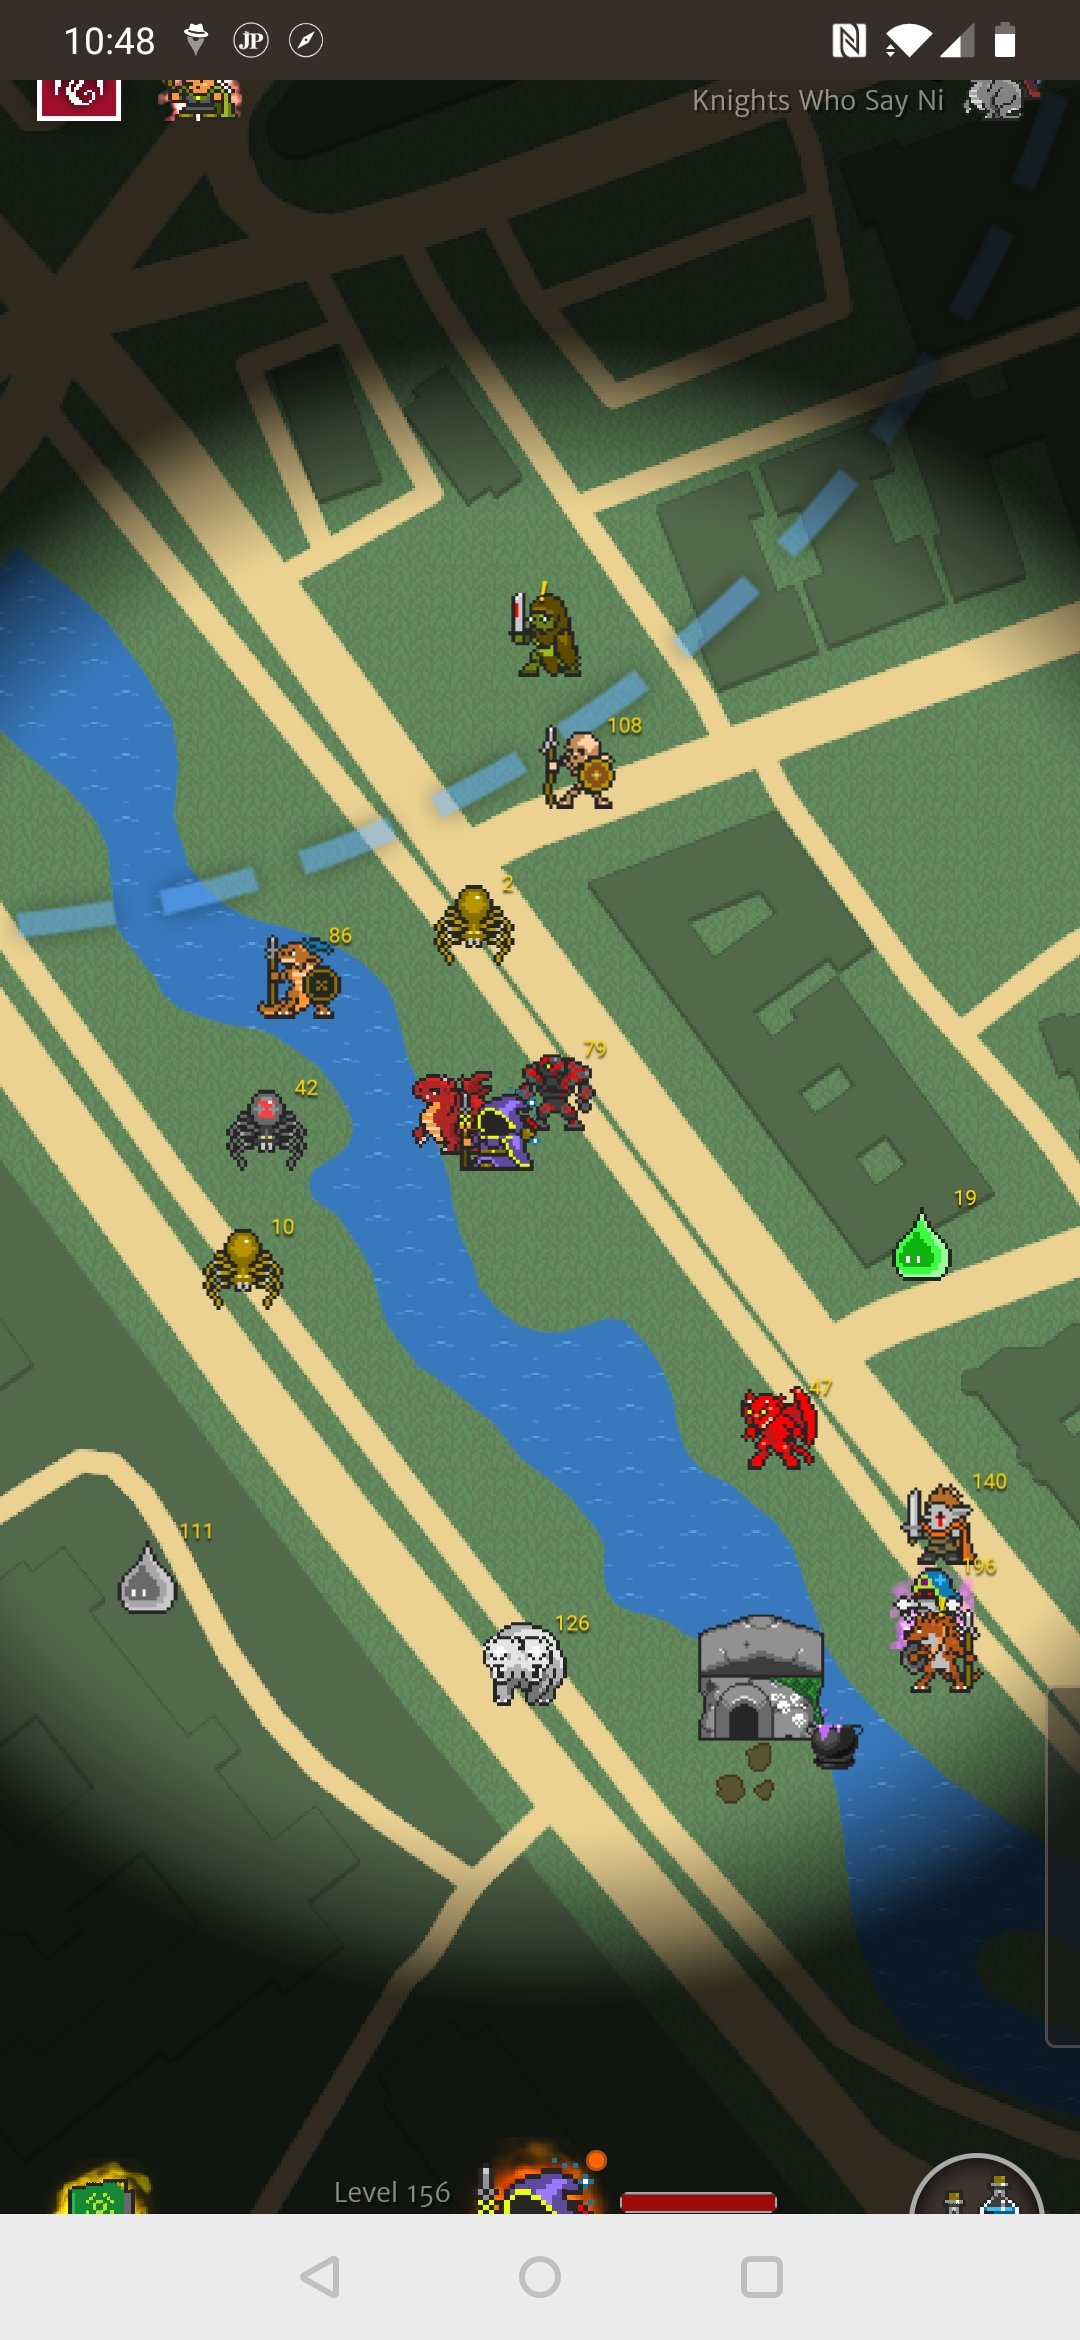monster: (226, 1071, 337, 1182), (481, 1599, 591, 1709), (536, 716, 646, 826), (412, 865, 522, 975), (739, 1375, 842, 1478), (508, 578, 608, 678), (257, 927, 357, 1027), (877, 1206, 973, 1302), (195, 1227, 288, 1320), (108, 1540, 191, 1623)
player: (450, 1089, 546, 1185)
